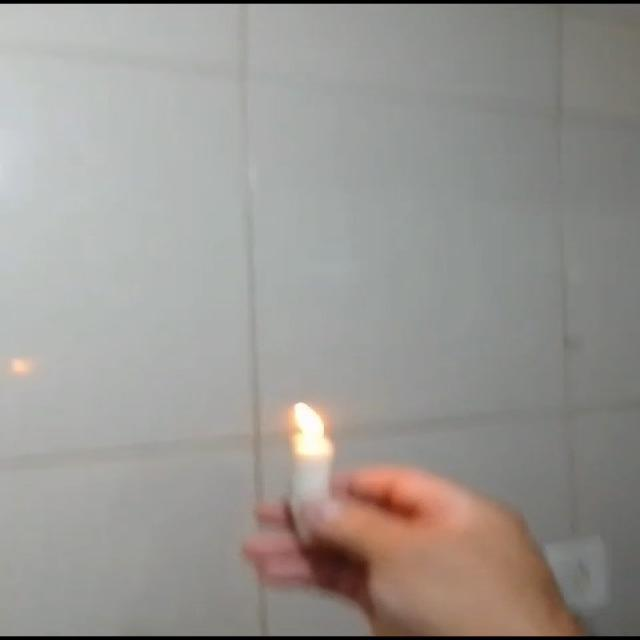fogo-ypXI: (288, 401, 328, 443)
